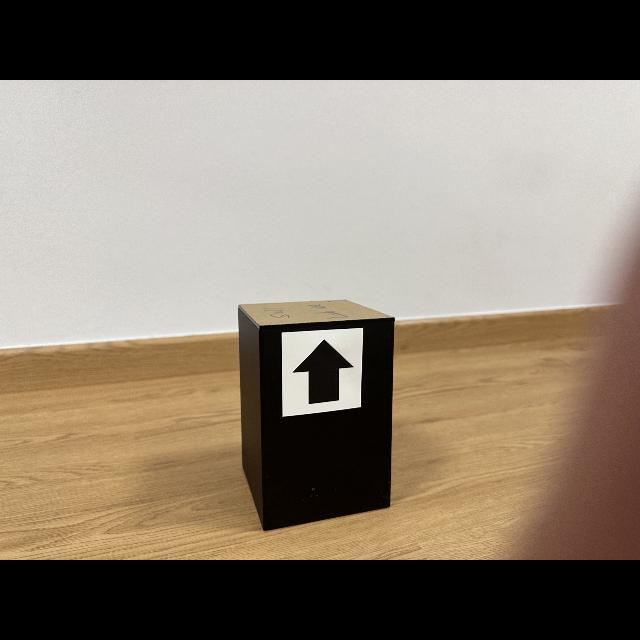UP: (292, 340, 355, 404)
